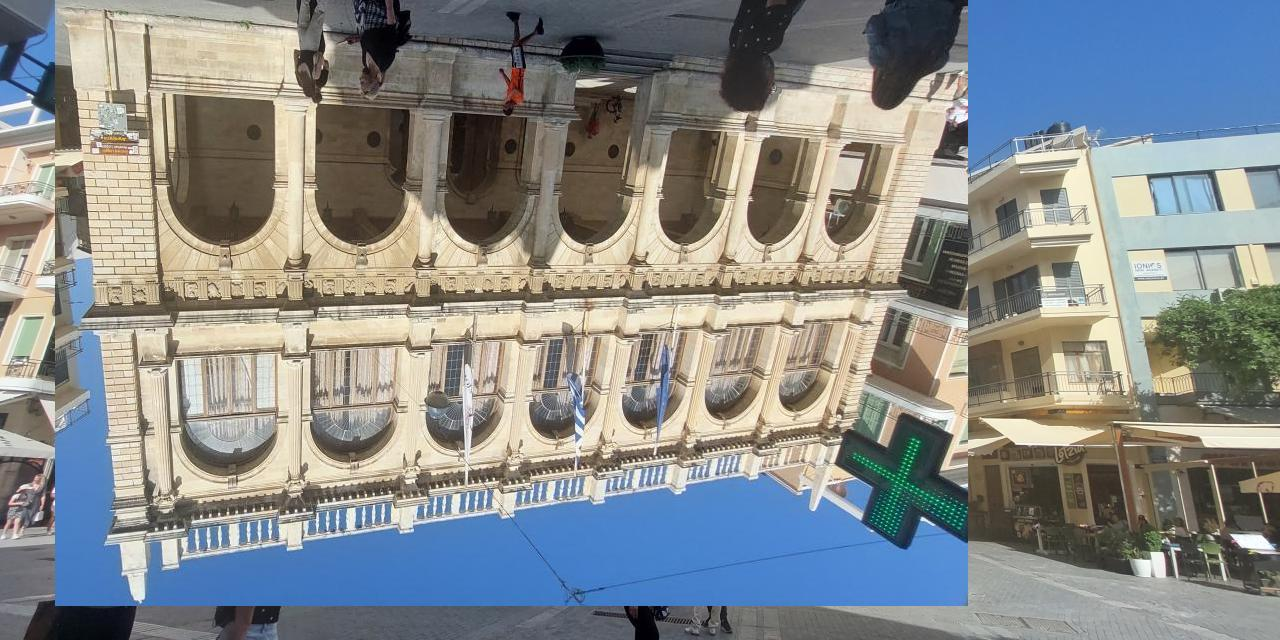Loggia: (56, 1, 969, 607)
